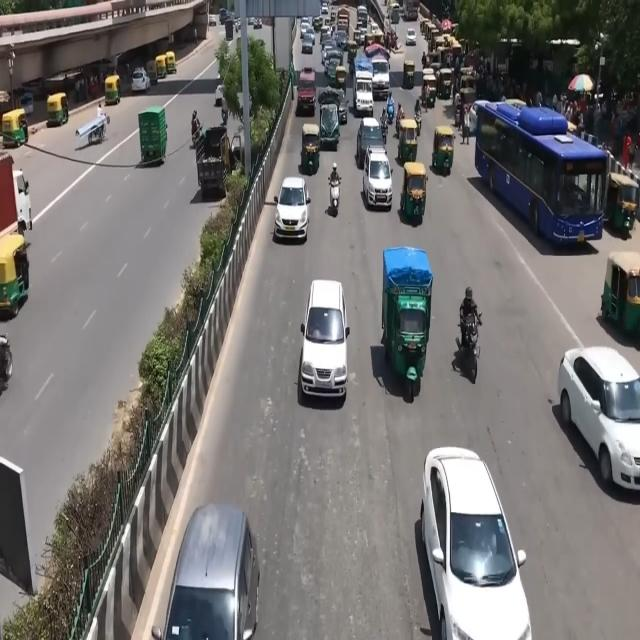auto: (601, 252, 640, 336), (0, 234, 29, 318), (606, 170, 640, 232), (400, 161, 428, 225), (432, 124, 456, 174), (1, 108, 28, 148), (397, 117, 419, 166), (301, 121, 321, 173), (459, 70, 478, 110), (46, 93, 68, 127), (421, 68, 438, 107), (104, 75, 121, 106), (438, 67, 453, 101), (425, 51, 441, 75), (146, 58, 160, 85), (403, 59, 415, 89), (155, 54, 168, 79), (335, 64, 346, 92)
bike-auto: (459, 286, 481, 347), (328, 162, 341, 212), (386, 91, 395, 125), (192, 110, 200, 148), (380, 109, 389, 142), (396, 102, 404, 132), (414, 98, 421, 120)
